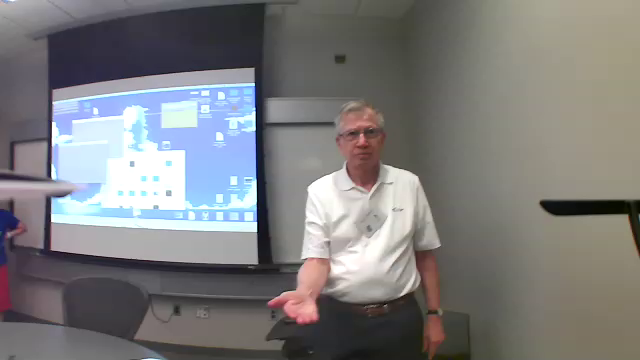land: (255, 287, 338, 335)
